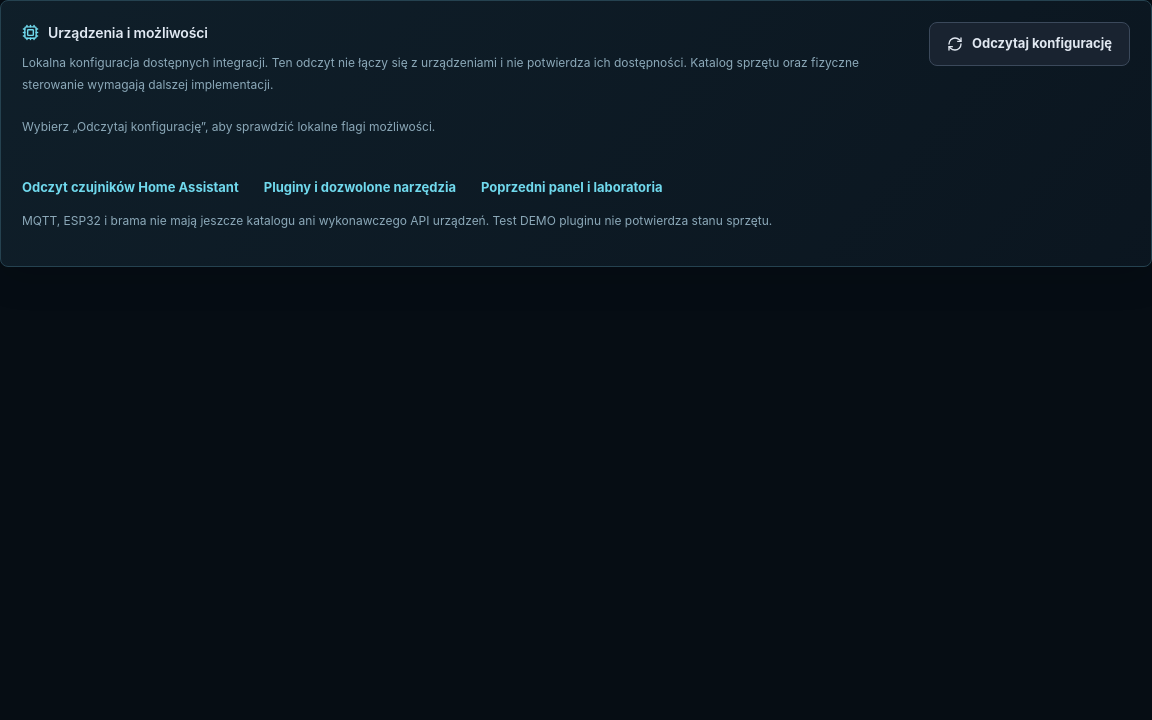
Scenario: Device capabilities reflect local metadata only › reads configuration explicitly and does not probe devices or expose physical controls
Click the button "Odczytaj konfigurację" at (1029, 44), box x1=929 y1=22 x2=1130 y2=66
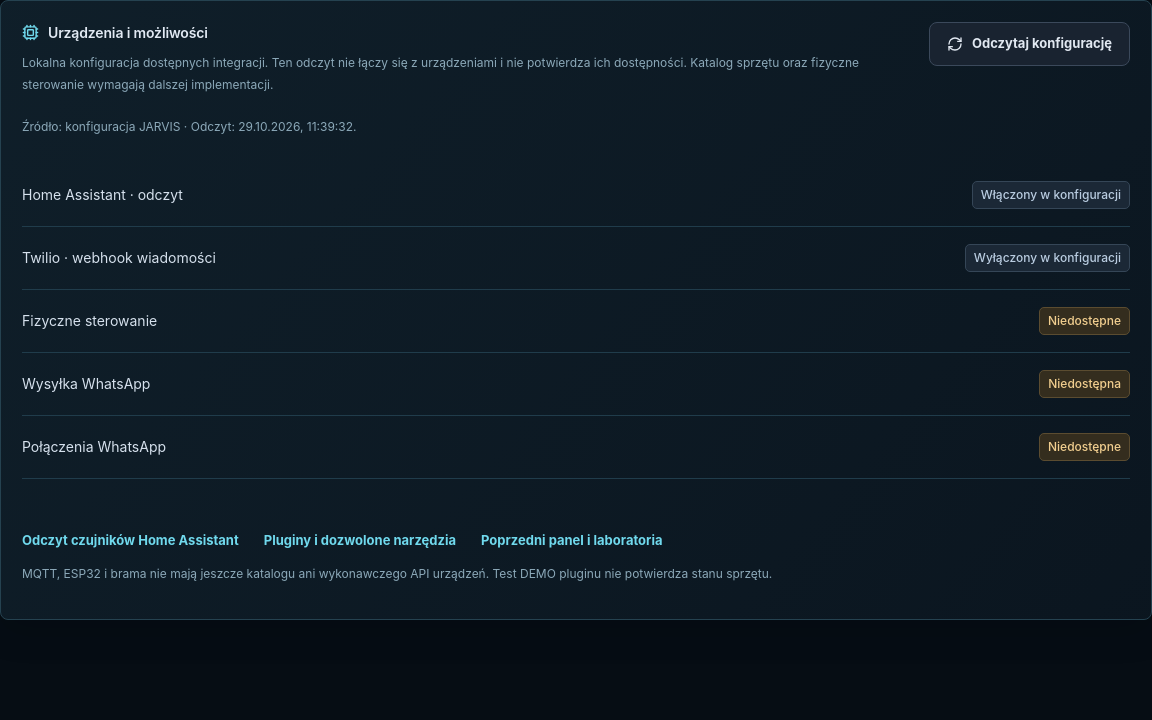
Expected: the text "Włączony w konfiguracji" is shown, x1=972 y1=181 x2=1130 y2=209
Expected: the text "Niedostępne" is shown 2 times, x1=1039 y1=307 x2=1130 y2=335; x1=1039 y1=433 x2=1130 y2=461
Expected: the text "Niedostępna" is shown, x1=1039 y1=370 x2=1130 y2=398
